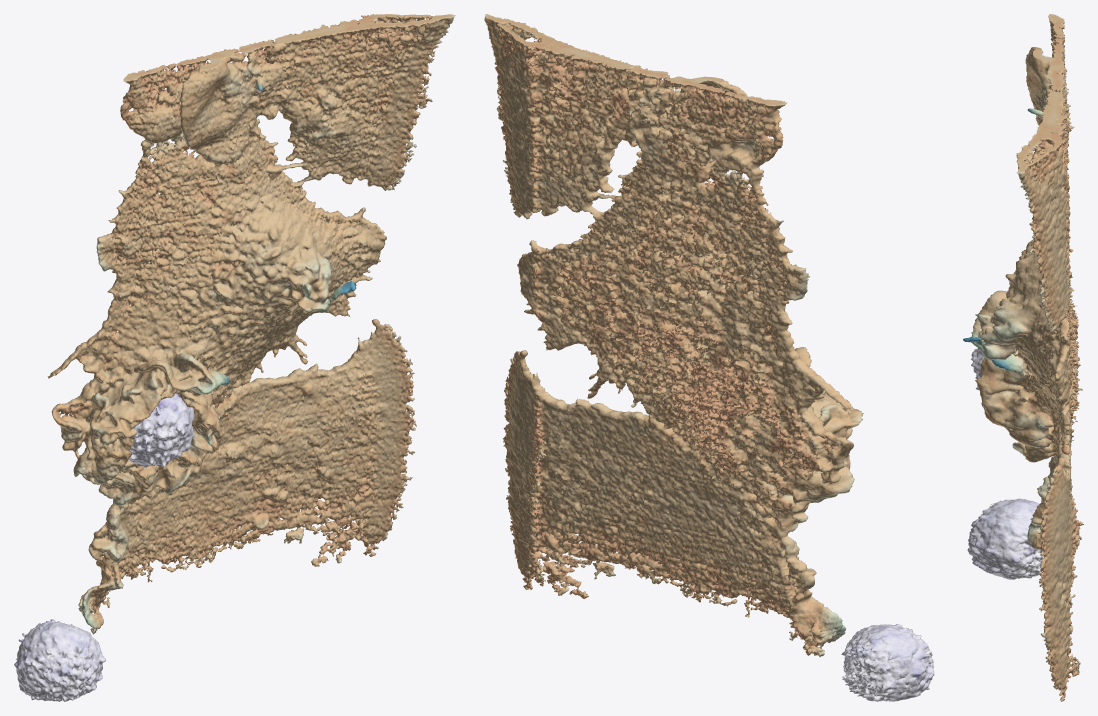
File: Surfaces_7.glb
3 views of the same model, side by side, from view 1: azimuth 30°, elevation 25°; view 2: azimuth 150°, elevation 25°; view 3: azimuth 270°, elevation 25° (orthographic). The views are drawn at different scales.
Visible parts, largest first — view 1: surface (×2); view 2: surface (×2); view 3: surface (×2).
Boxes of the visible parts, x1=… form: surface (×2): x1=14, y1=14, x2=455, y2=701; surface (×2): x1=484, y1=14, x2=934, y2=701; surface (×2): x1=963, y1=14, x2=1083, y2=701.
Bounding box in the file's own units: 612 × 764 × 141.
